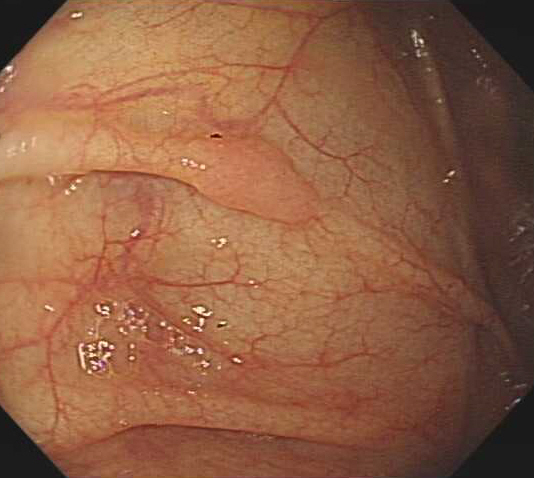adenoma: (185, 130, 325, 229)
